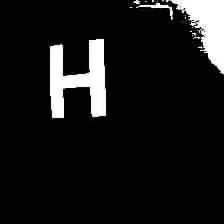LTR_H: (42, 31, 114, 123)
